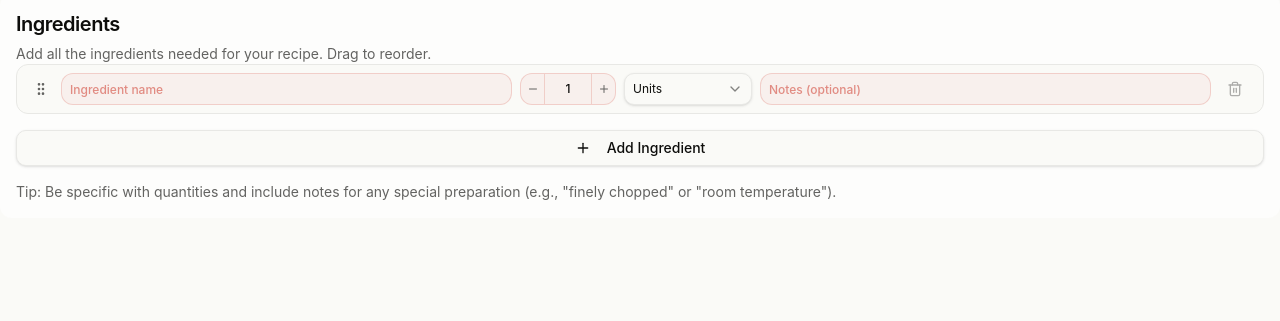
Test: IngredientsStep › Quantity input smart stepping › should start from 1 when empty and increment is clicked
This screenshot has width=1280, height=321.
// Clear the input
Clear the number field named "ingredient 1 quantity". click: (568, 89)
box: [545,81,591,97]
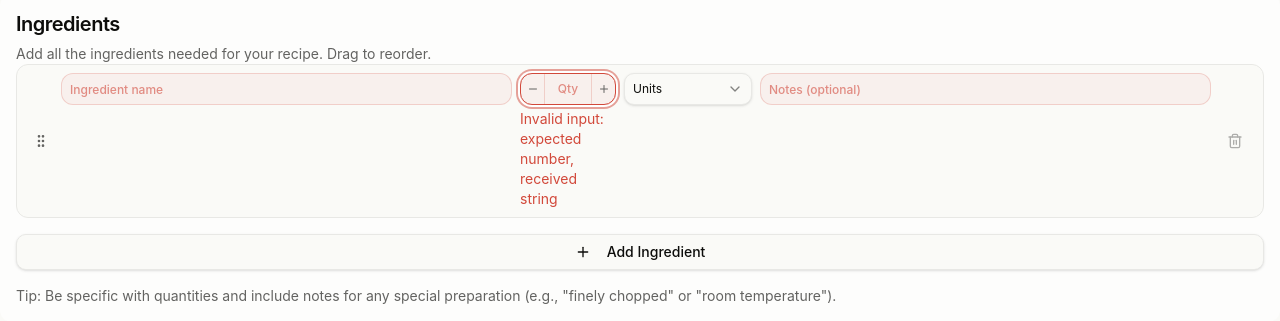
Click the button named "Increase quantity". click: (603, 89)
box: [591,74,615,104]
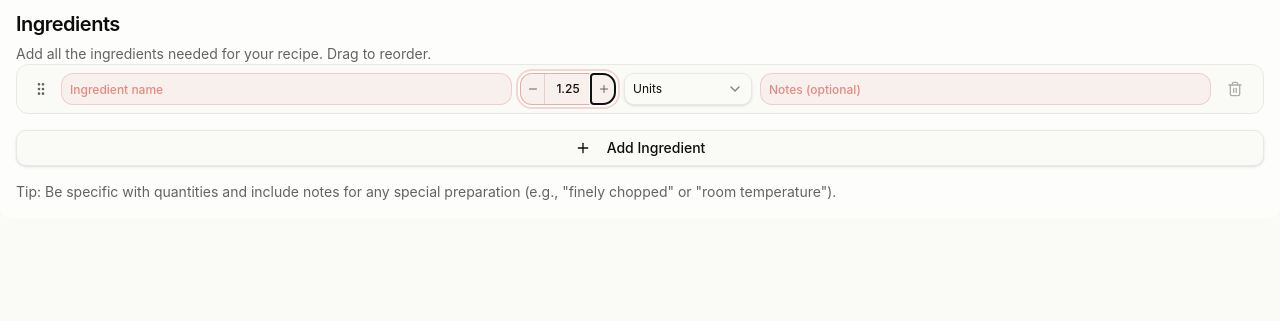
Check: the number field named "ingredient 1 quantity" holds "1.25", box [545,81,591,97]
